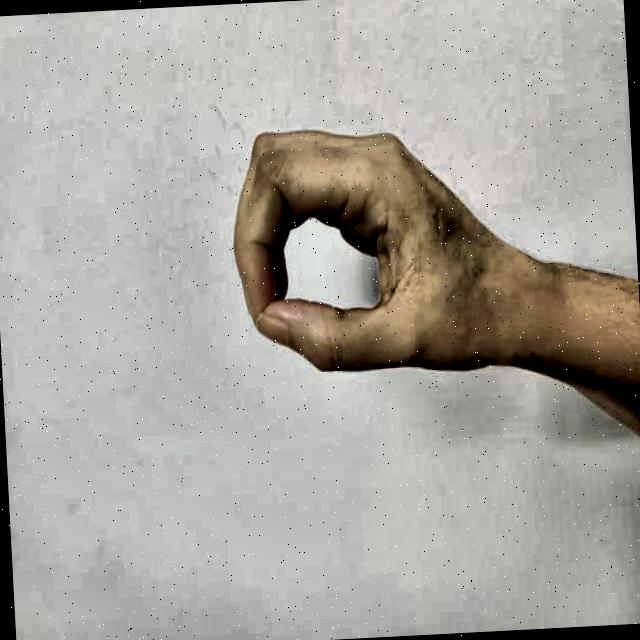O: (208, 96, 514, 416)
